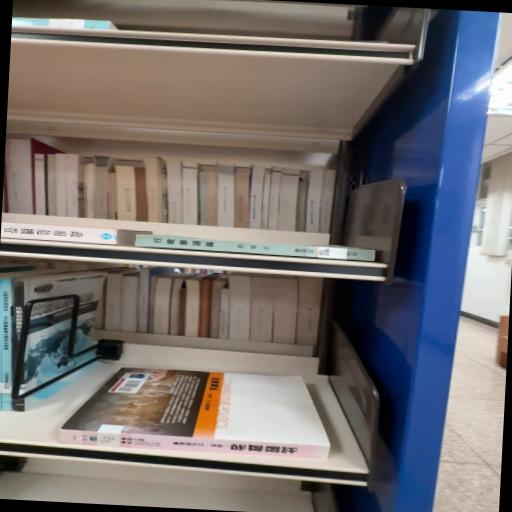flat: (61, 369, 331, 460), (136, 236, 376, 263)
